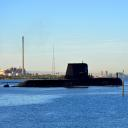submarine: (4, 62, 124, 89)
